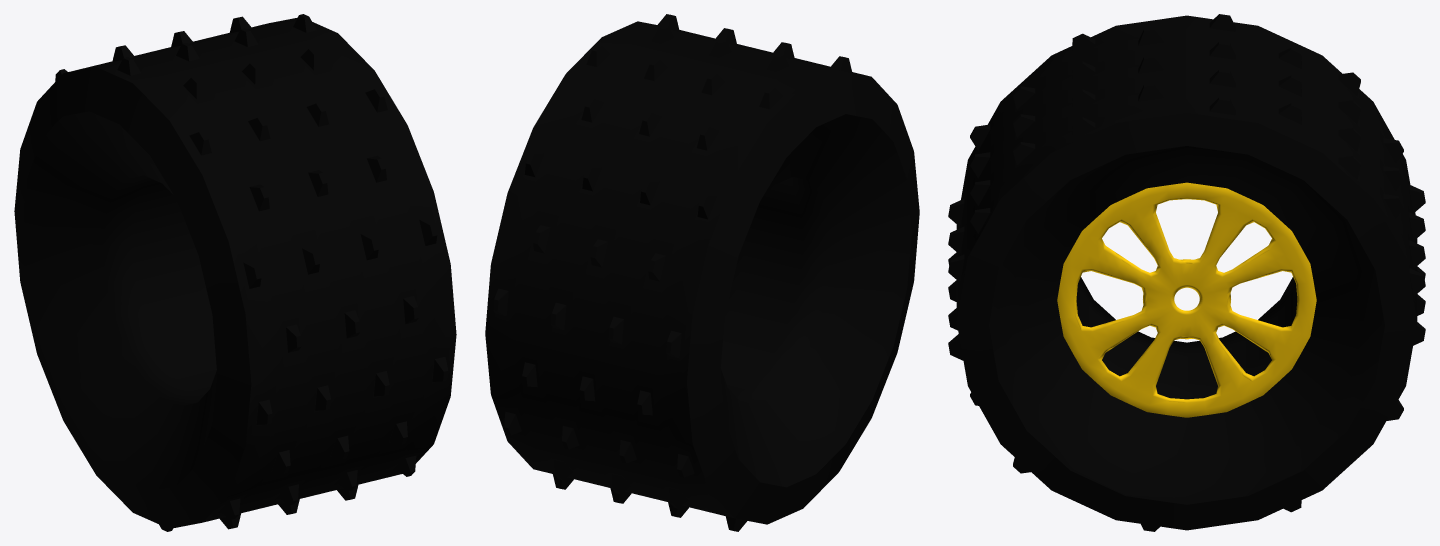
Rendered from space_discoverer_backwheel.glb.
The picture shows the model from 3 angles, left to right: view 1: azimuth 30°, elevation 25°; view 2: azimuth 150°, elevation 25°; view 3: azimuth 270°, elevation 25°; orthographic projection. The views are drawn at different scales.
Visible parts, largest first — view 1: pPipe5_Pneus_0; view 2: pPipe5_Pneus_0; view 3: pPipe5_Pneus_0.
Boxes of the visible parts, box(x1,y1,x2,y2) form: pPipe5_Pneus_0: box(14, 14, 456, 531); pPipe5_Pneus_0: box(485, 14, 919, 531); pPipe5_Pneus_0: box(948, 14, 1425, 531).
Size of the model in its own units: 0.7348 by 1.38 by 1.38.
